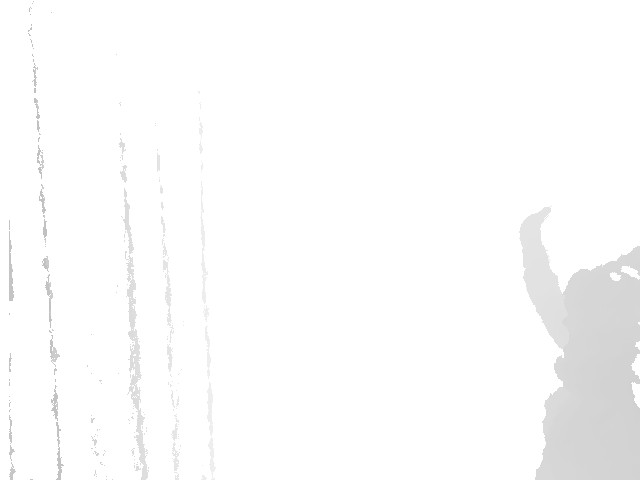hand: (516, 204, 555, 241)
head: (561, 248, 640, 360)
person: (513, 203, 639, 479)
